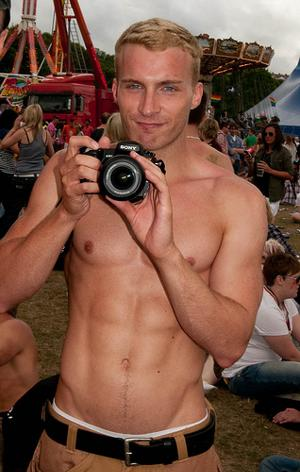person: (2, 21, 268, 472)
